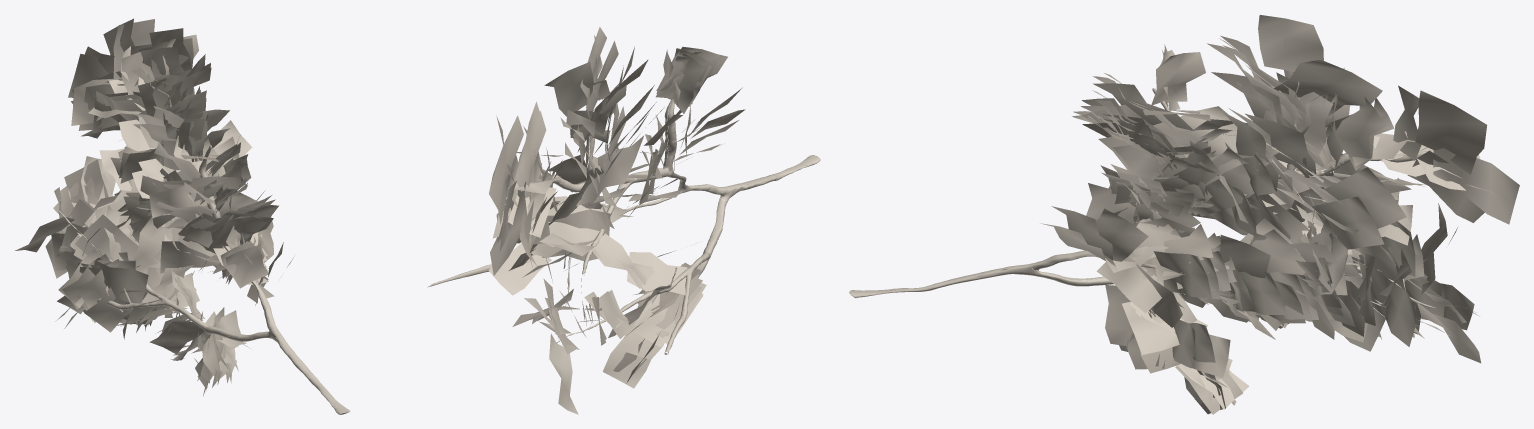
Rendered from tree_cand04.glb.
The picture shows the model from 3 angles, left to right: view 1: azimuth 30°, elevation 25°; view 2: azimuth 150°, elevation 25°; view 3: azimuth 270°, elevation 25°; orthographic projection. The views are drawn at different scales.
Visible parts, largest first — view 1: world; view 2: world; view 3: world.
Boxes of the visible parts, <box> form: world: <box>15,18,350,414</box>; world: <box>427,27,820,414</box>; world: <box>849,15,1519,414</box>.
Size of the model in its own units: 0.879 by 1.21 by 1.79.
